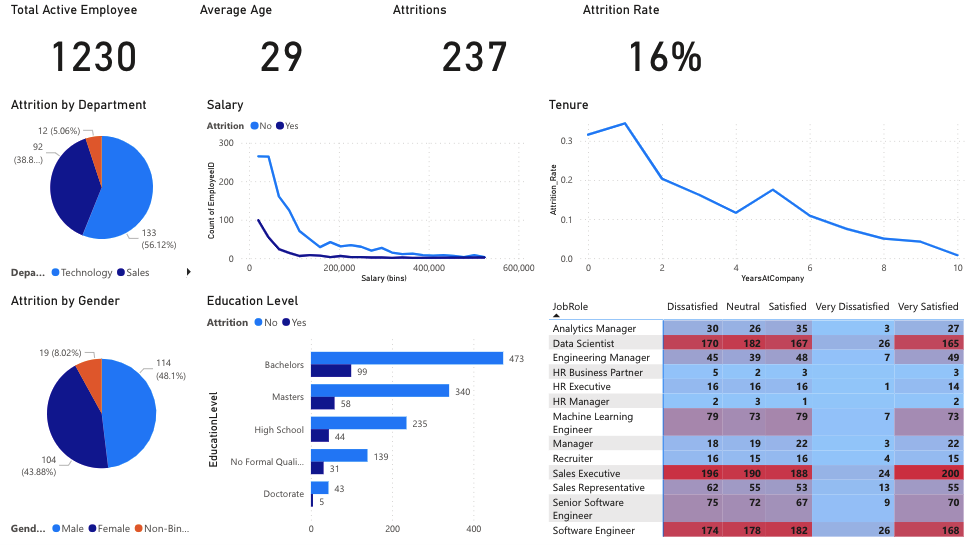

The page's visual inventory and layout, read from the dashboard file:
{"tool":"powerbi","page":{"name":"Attrition","canvas":[1280,720],"ordinal":0},"visuals":[{"type":"card","title":"Total Active Employee","fields":{"Values":["Count(employee.EmployeeID)"]},"box":[16.5,7.8,222.7,108],"z":0},{"type":"card","title":"Average Age","fields":{"Values":["Avg(employee.Age)"]},"box":[262.5,7.8,221.8,108],"z":1000},{"type":"card","title":"Attritions","fields":{"Values":["Count(employee.EmployeeID)"]},"box":[513.5,7.8,221.8,108],"z":2000},{"type":"card","title":"Attrition Rate","fields":{"Values":["employee.Attrition Rate"]},"box":[760,8,221,108],"z":3000},{"type":"pieChart","title":"Attrition by Department","fields":{"Category":["employee.Department"],"Y":["CountNonNull(employee.EmployeeID)"]},"box":[16.3,131.3,246,244],"z":4000},{"type":"pivotTable","fields":{"Rows":["employee.JobRole"],"Columns":["performance_rating.JobSatisfaction"],"Values":["Count(performance_rating.EmployeeID)"]},"box":[715.8,386.1,550.5,321.9],"z":5000},{"type":"clusteredBarChart","title":"Education Level","fields":{"Category":["education_level.EducationLevel"],"Y":["CountNonNull(employee.EmployeeID)"],"Series":["employee.Attrition"]},"box":[272,386,435.7,321.9],"z":6000},{"type":"lineChart","title":"Salary","fields":{"Category":["employee.Salary (bins)"],"Series":["employee.Attrition"],"Y":["Count(employee.EmployeeID)"]},"box":[271.9,131.2,436,244],"z":7000},{"type":"pieChart","title":"Attrition by Gender","fields":{"Y":["CountNonNull(employee.EmployeeID)"],"Category":["employee.Gender"]},"box":[16.5,386.1,246.1,321.9],"z":8000},{"type":"lineChart","title":"Tenure","fields":{"Category":["employee.YearsAtCompany"],"Y":["_Measures.Measure"]},"box":[716,131,551,244],"z":9000}]}

Visuals, with their boxes in screenshot pixels (x1, y1, x2, y2), scaled from the page's 1280x720 canvas onto the 970x545 screenshot:
"Total Active Employee" card: rect(13, 6, 181, 88)
"Average Age" card: rect(199, 6, 367, 88)
"Attritions" card: rect(389, 6, 557, 88)
"Attrition Rate" card: rect(576, 6, 743, 88)
"Attrition by Department" pieChart: rect(12, 99, 199, 284)
pivotTable - employee.JobRole x performance_rating.JobSatisfaction: rect(542, 292, 960, 536)
"Education Level" clusteredBarChart: rect(206, 292, 536, 536)
"Salary" lineChart: rect(206, 99, 536, 284)
"Attrition by Gender" pieChart: rect(13, 292, 199, 536)
"Tenure" lineChart: rect(543, 99, 960, 284)
